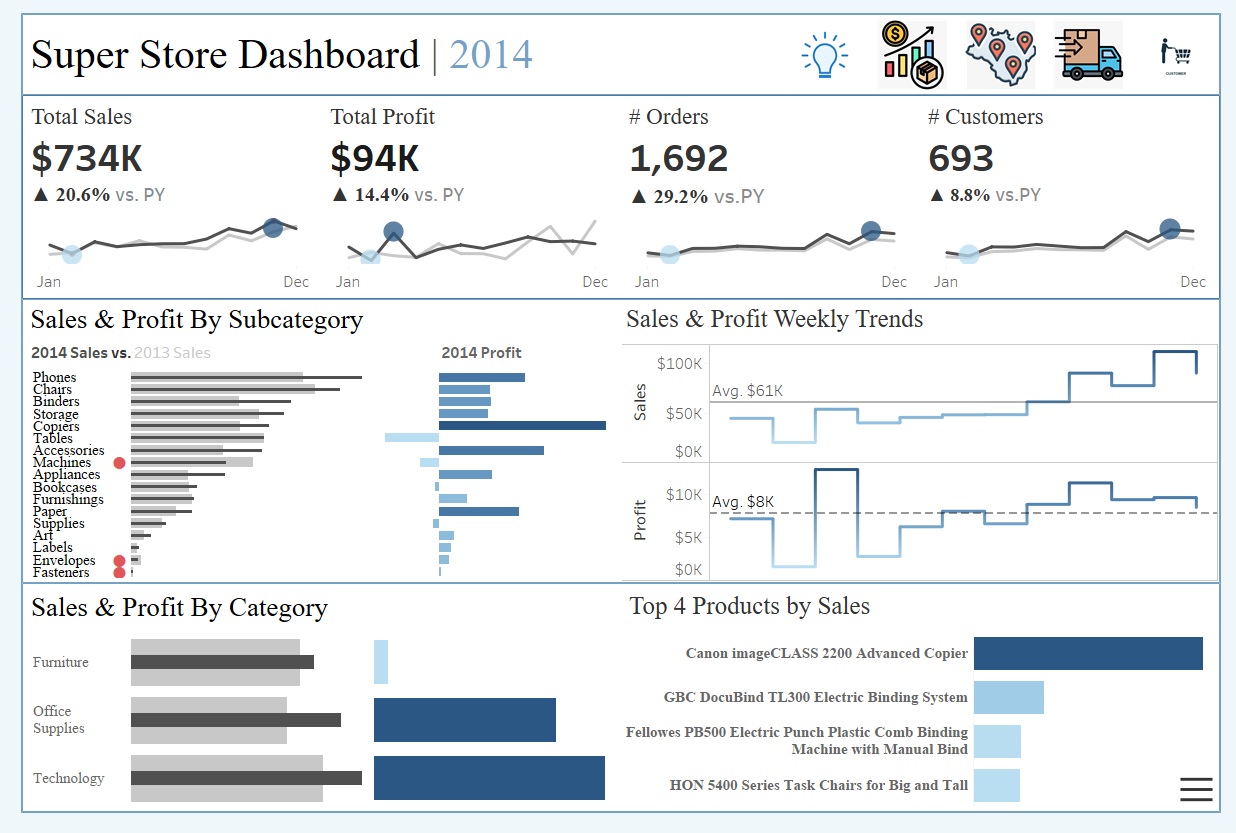

The page's visual inventory and layout, read from the dashboard file:
{"tool":"tableau","page":{"name":"Super_Store_Dashboard 0","canvas":[1200,800],"ordinal":0},"visuals":[{"type":"text","box":[2,2,786,79]},{"type":"dashboard-object","box":[788,2,82,79]},{"type":"dashboard-object","box":[870,2,82,79]},{"type":"dashboard-object","box":[952,2,82,79]},{"type":"dashboard-object","box":[1034,2,82,79]},{"type":"dashboard-object","box":[1116,2,82,79]},{"type":"parameter","param":"[Parameters].[Order Year Parameter]","box":[564,15,154,35.9]},{"type":"legend","title":"Sales & Profit Over Time","param":"[federated.1f1h3uc1jm1pvb1bxfcov0sczj9y].[usr:Calculation_1391330877273645061:nk","box":[564,50.9,154,35.9]},{"type":"worksheet","title":"KPI Sales 0","mark":"Line","rows":["Sales","Min/Max Sales (copy)_3207407427292659714"],"cols":["Order Period"],"box":[2,83,299,237]},{"type":"worksheet","title":"KPI Profit 0","mark":"Line","rows":["Profit","Min/Max Sales 0 (copy)_3207407427297476611"],"cols":["Order Period"],"box":[301,83,299,237]},{"type":"worksheet","title":"KPI Orders 0 ","mark":"Automatic","rows":["Order ID","Min/Max Customers (copy)_3207407427299741704"],"cols":["Order Period"],"box":[600,83,299,237]},{"type":"worksheet","title":"KPI Customer 0","mark":"Line","rows":["Customer ID","Min/Max Order 0 (copy)_3207407427302547466"],"cols":["Order Period"],"box":[899,83,299,237]},{"type":"legend","title":"Sales & Profit Over Time","param":"[federated.1f1h3uc1jm1pvb1bxfcov0sczj9y].[usr:KPI Sales Avg (copy)_1391330877274","box":[564,86.7,154,35.9]},{"type":"legend","title":"KPI Sales 0","param":"[federated.1f1h3uc1jm1pvb1bxfcov0sczj9y].[usr:Min/Max Sales (copy)_3207407427292","box":[564,122.6,154,35.9]},{"type":"legend","title":"KPI Profit 0","param":"[federated.1f1h3uc1jm1pvb1bxfcov0sczj9y].[usr:Min/Max Sales 0 (copy)_32074074272","box":[564,158.4,154,35.9]},{"type":"legend","title":"KPI Customer 0","param":"[federated.1f1h3uc1jm1pvb1bxfcov0sczj9y].[usr:Min/Max Order 0 (copy)_32074074273","box":[564,194.3,154,35.9]},{"type":"legend","title":"KPI Orders 0 ","param":"[federated.1f1h3uc1jm1pvb1bxfcov0sczj9y].[usr:Min/Max Customers (copy)_320740742","box":[564,230.1,154,35.9]},{"type":"worksheet","title":"Sales & Profit Over Time","mark":"Line","rows":["Sales","Profit"],"cols":["Order Period"],"box":[2,322,1196,476]}]}

Visuals, with their boxes in screenshot pixels (x1, y1, x2, y2), scaled from the page's 1200x800 canvas onto the 1236x833 screenshot:
text: box(2, 2, 812, 84)
dashboard-object: box(812, 2, 896, 84)
dashboard-object: box(896, 2, 981, 84)
dashboard-object: box(981, 2, 1065, 84)
dashboard-object: box(1065, 2, 1149, 84)
dashboard-object: box(1149, 2, 1234, 84)
parameter: box(581, 16, 740, 53)
"Sales & Profit Over Time" legend: box(581, 53, 740, 90)
"KPI Sales 0" worksheet (Line marks): box(2, 86, 310, 333)
"KPI Profit 0" worksheet (Line marks): box(310, 86, 618, 333)
"KPI Orders 0 " worksheet: box(618, 86, 926, 333)
"KPI Customer 0" worksheet (Line marks): box(926, 86, 1234, 333)
"Sales & Profit Over Time" legend: box(581, 90, 740, 128)
"KPI Sales 0" legend: box(581, 128, 740, 165)
"KPI Profit 0" legend: box(581, 165, 740, 202)
"KPI Customer 0" legend: box(581, 202, 740, 240)
"KPI Orders 0 " legend: box(581, 240, 740, 277)
"Sales & Profit Over Time" worksheet (Line marks): box(2, 335, 1234, 831)
